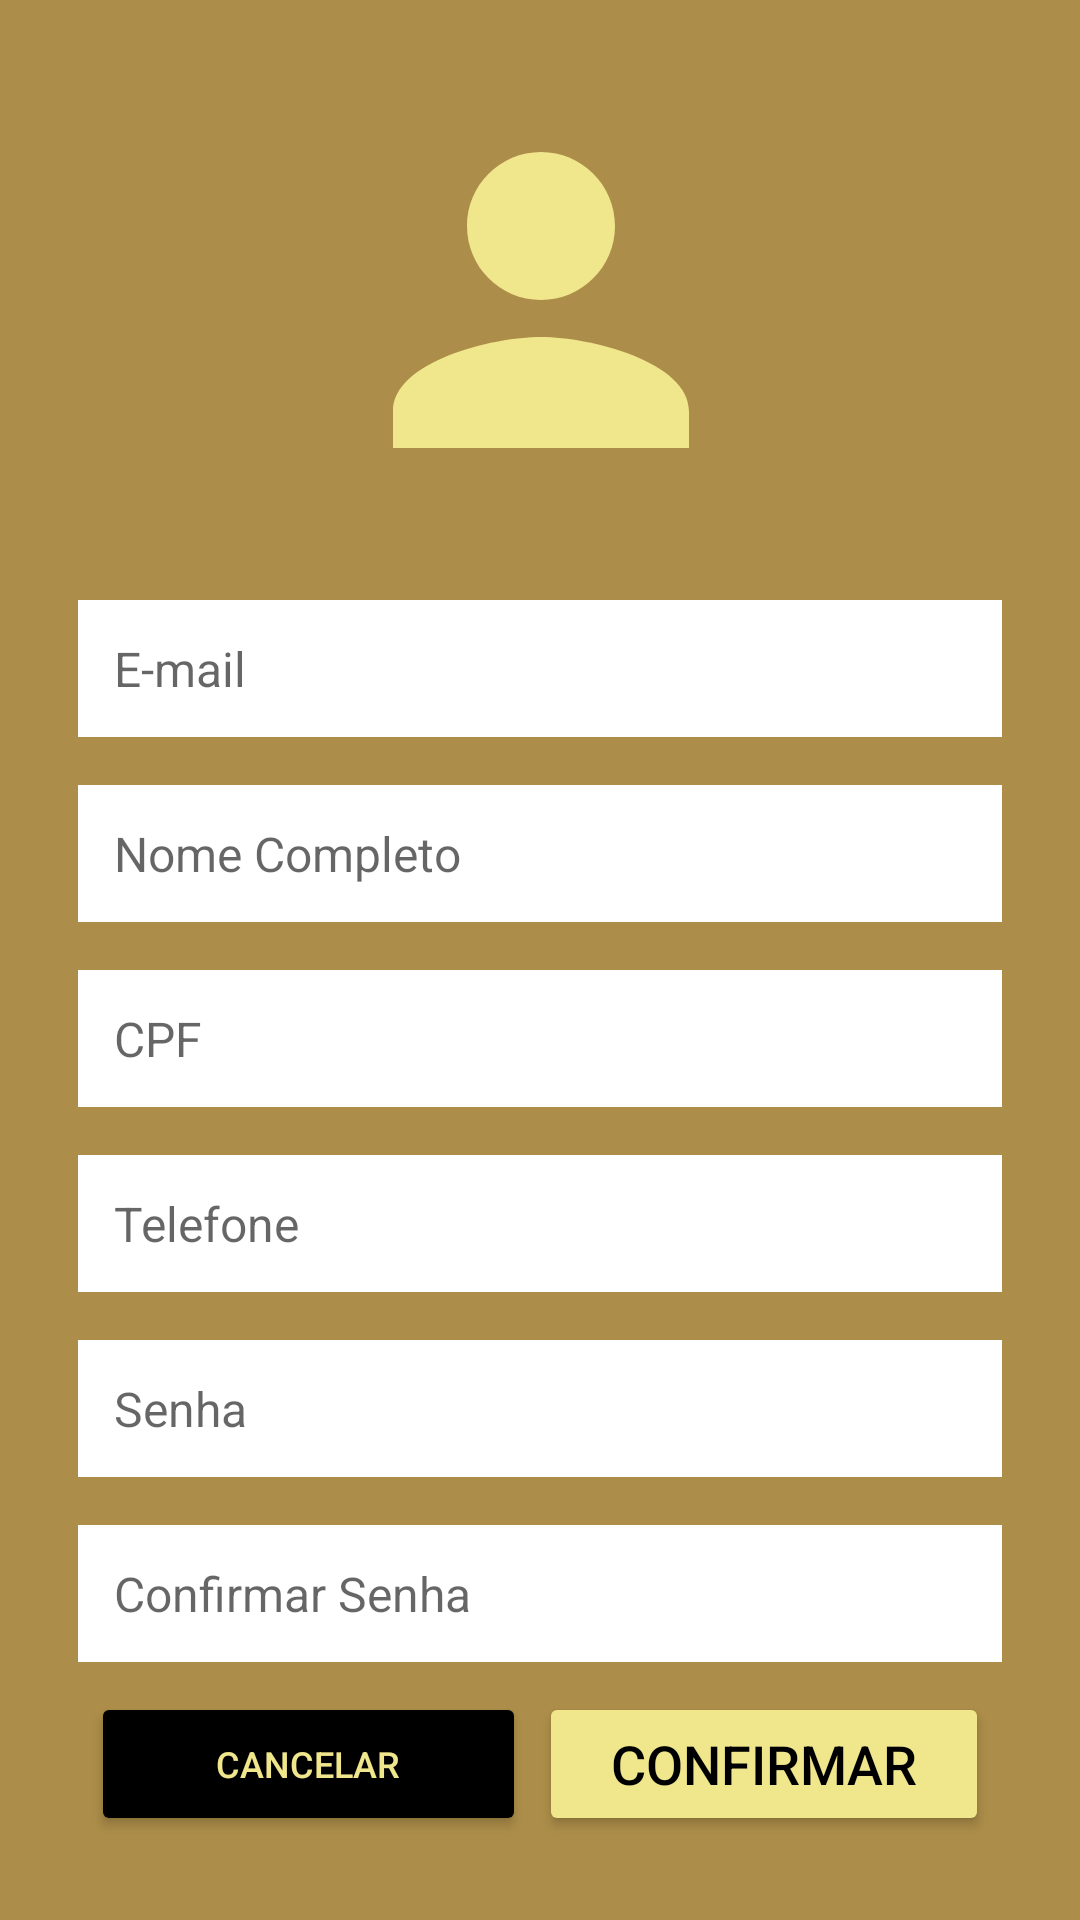

Screen size 1080x1920. Icon name, then its center in pixels as (x,y):
user upload: (541,300)
